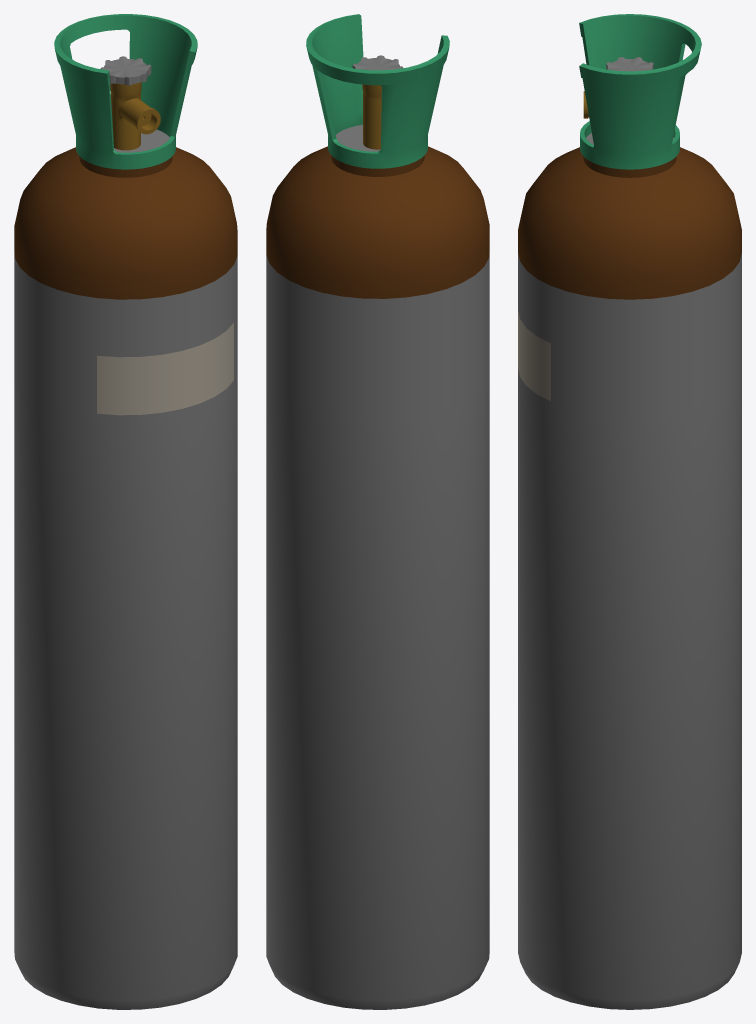
Rendered from helium_tank.glb.
3 views of the same model, side by side, from view 1: azimuth 30°, elevation 25°; view 2: azimuth 150°, elevation 25°; view 3: azimuth 270°, elevation 25° (orthographic).
Visible parts, largest first — view 1: Helium Tank; view 2: Helium Tank; view 3: Helium Tank.
Part boxes in pixels (x1,y1,x2,y2): Helium Tank: (14, 14, 237, 1009); Helium Tank: (266, 14, 489, 1009); Helium Tank: (518, 14, 741, 1009).
Size of the model in its own units: 0.2057 by 0.939 by 0.2057.
